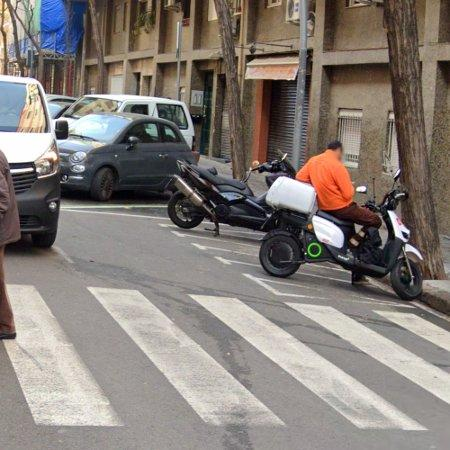crosswalks: (3, 283, 450, 435)
